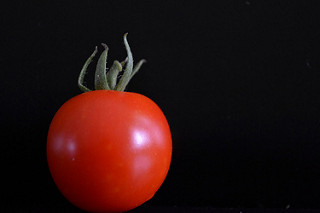tomato: (44, 84, 173, 213)
